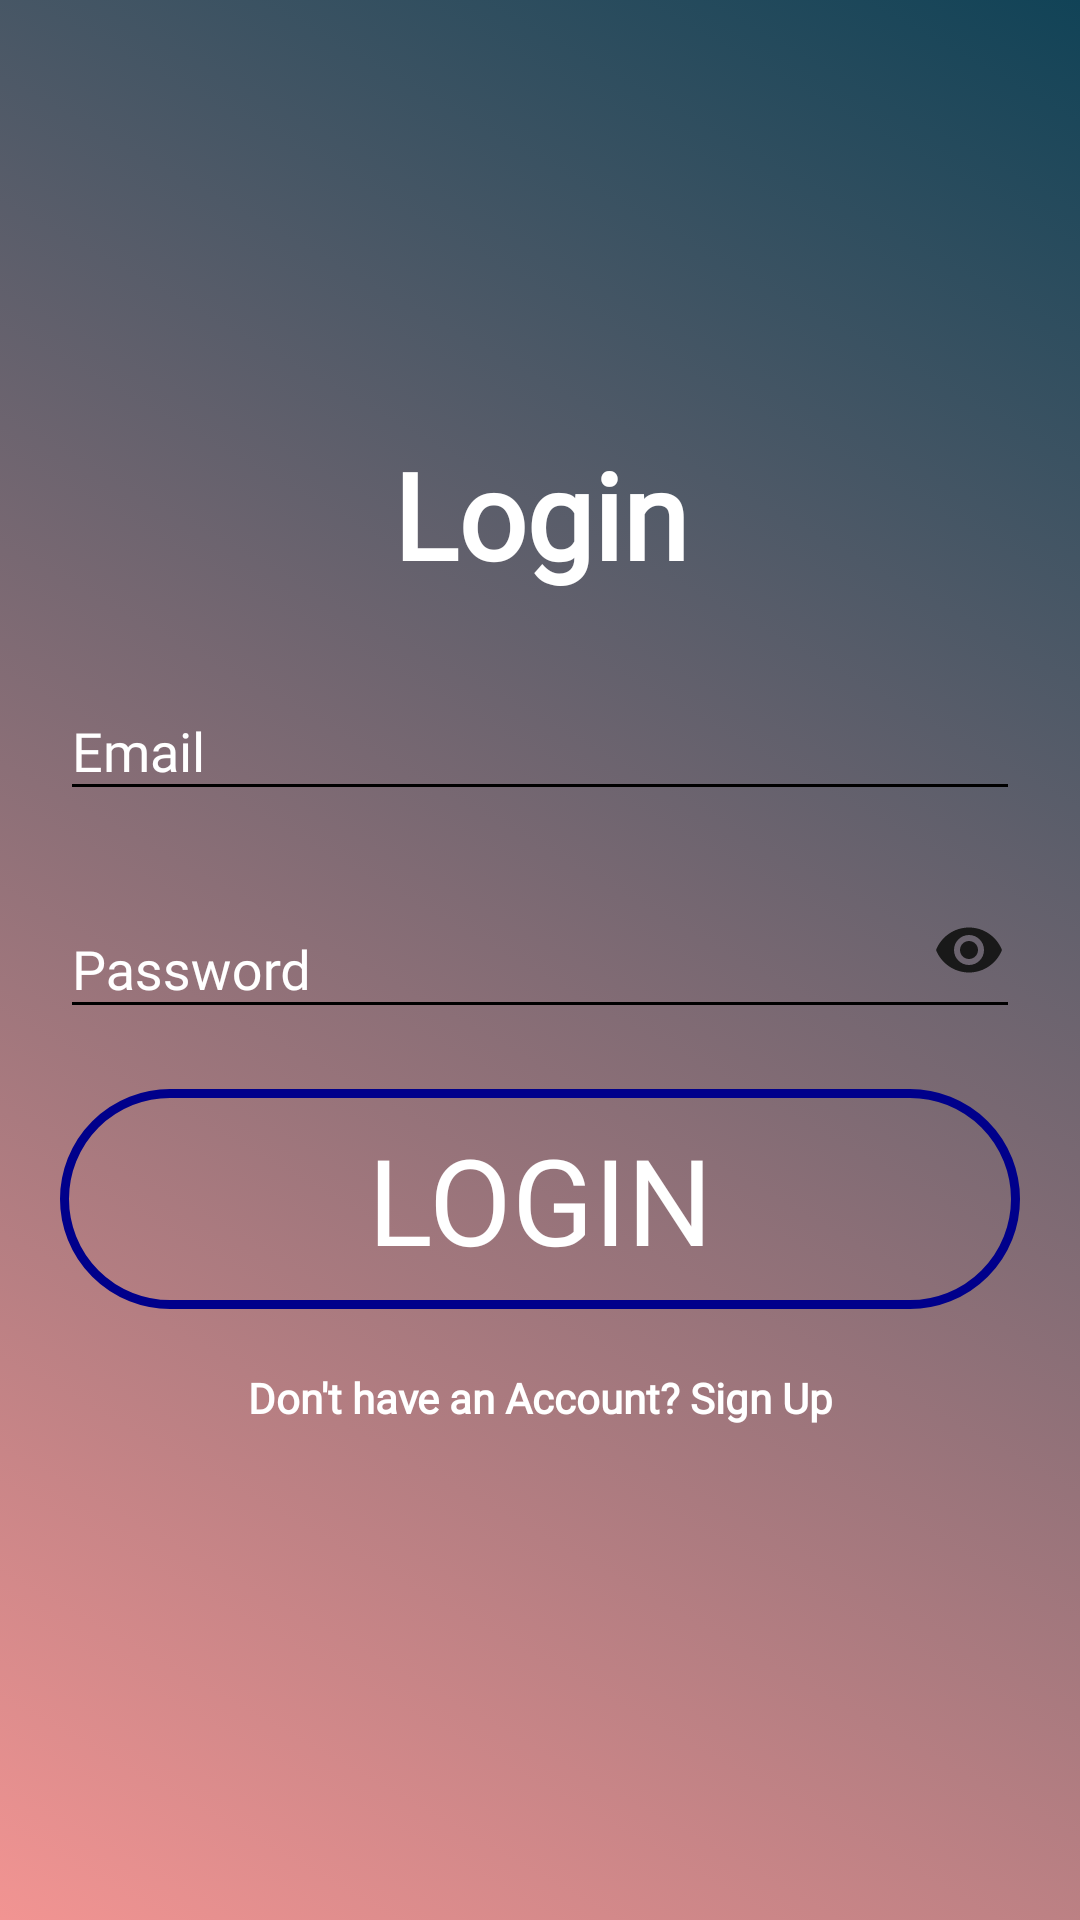

Named icons in this screenshot (1080px×1920px) and their bounding boxes, (x1, y1, x2, y2):
eye: (936, 927, 1002, 973)
